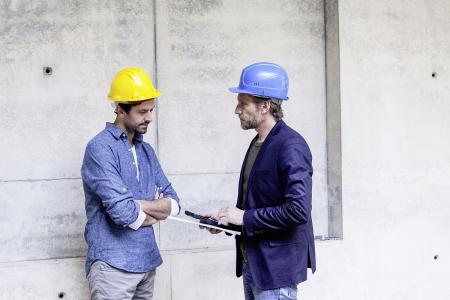hard-hat: (227, 62, 288, 101), (107, 67, 161, 103)
person: (198, 61, 316, 300), (81, 67, 180, 300)
